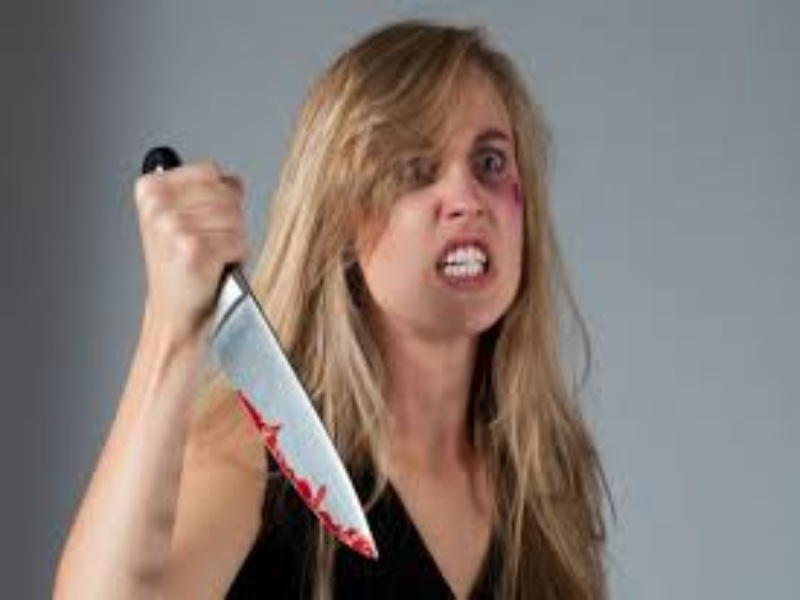hand: (132, 164, 242, 335)
knife: (204, 148, 376, 569)
person: (51, 25, 616, 600)
